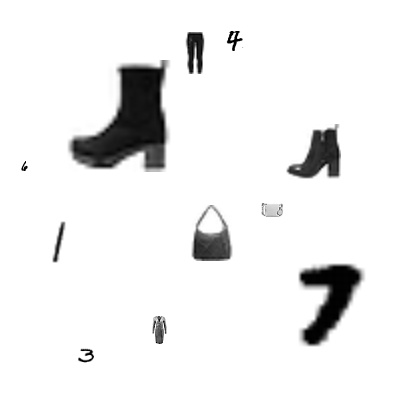1: (29, 214, 85, 270)
3: (76, 344, 98, 366)
4: (220, 25, 248, 53)
6: (17, 160, 31, 174)
7: (272, 241, 384, 353)
Ankle_boot: (61, 60, 173, 172), (285, 124, 341, 180)
Bag: (184, 205, 240, 261), (261, 199, 283, 221)
Dress: (145, 316, 173, 344)
Trouser: (174, 32, 216, 74)
